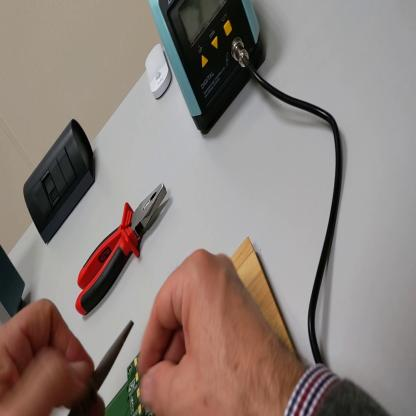hand: (140, 247, 285, 416), (2, 296, 101, 416)
low voltage board: (105, 345, 161, 415)
oscilloscope: (3, 245, 28, 322)
oscilloscope probe tip: (69, 320, 135, 415)
pliers: (76, 173, 171, 317)
welder station: (148, 3, 267, 139)
working area: (222, 229, 299, 359)
